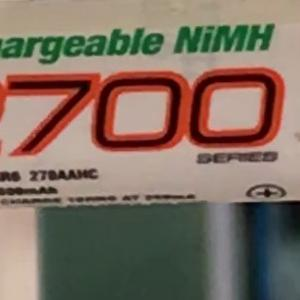NIMH: (164, 14, 285, 63)
